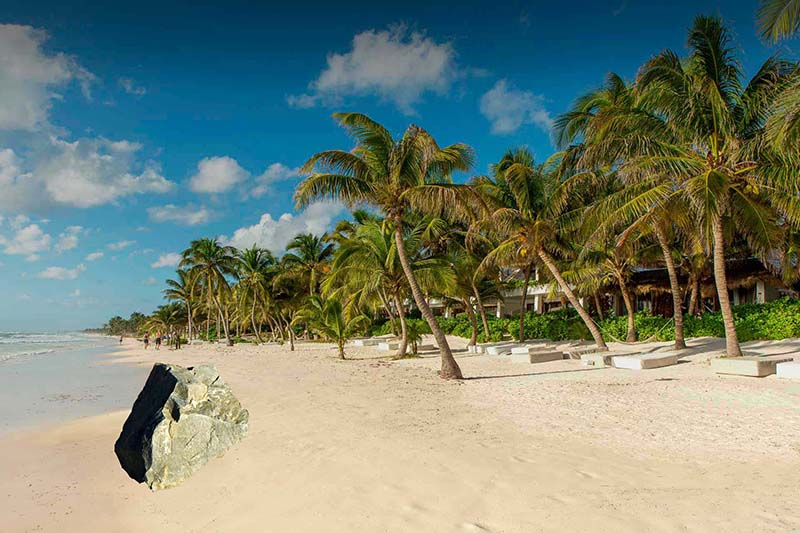Rocks: (108, 355, 254, 497)
